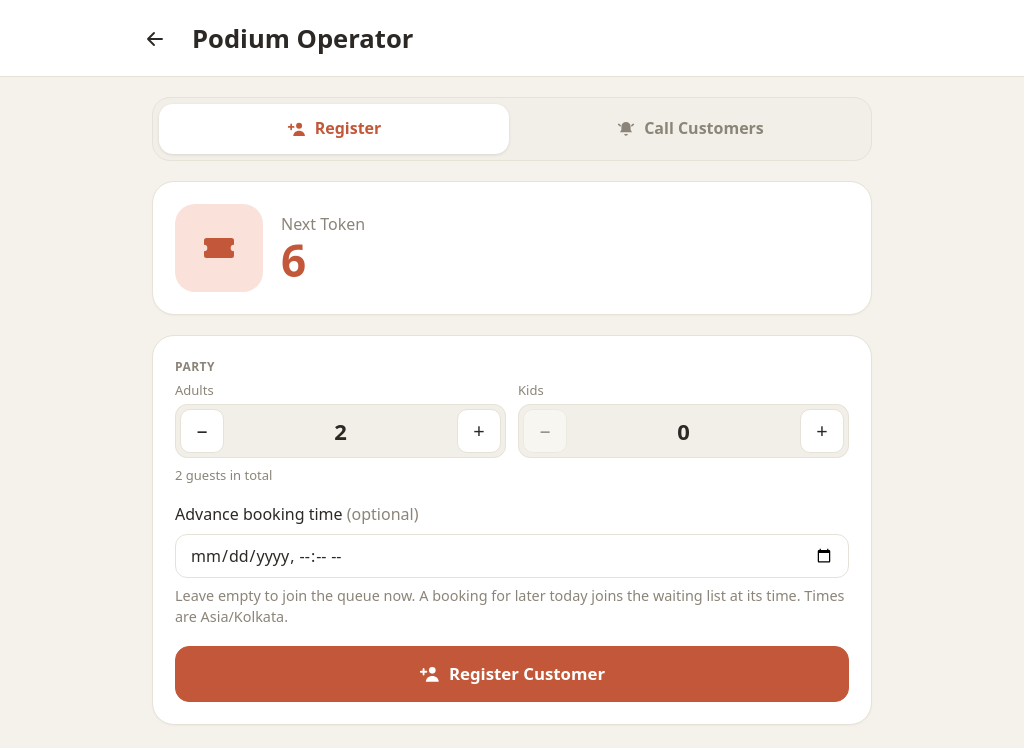
Test: Podium operator — calling › still refetches when an action FAILS, so the operator sees the real state
What coordinates should you click on to do the following:
click the tab "Call Customers"
I would click on:
 (690, 129)
Its box is [515,104,865,154].
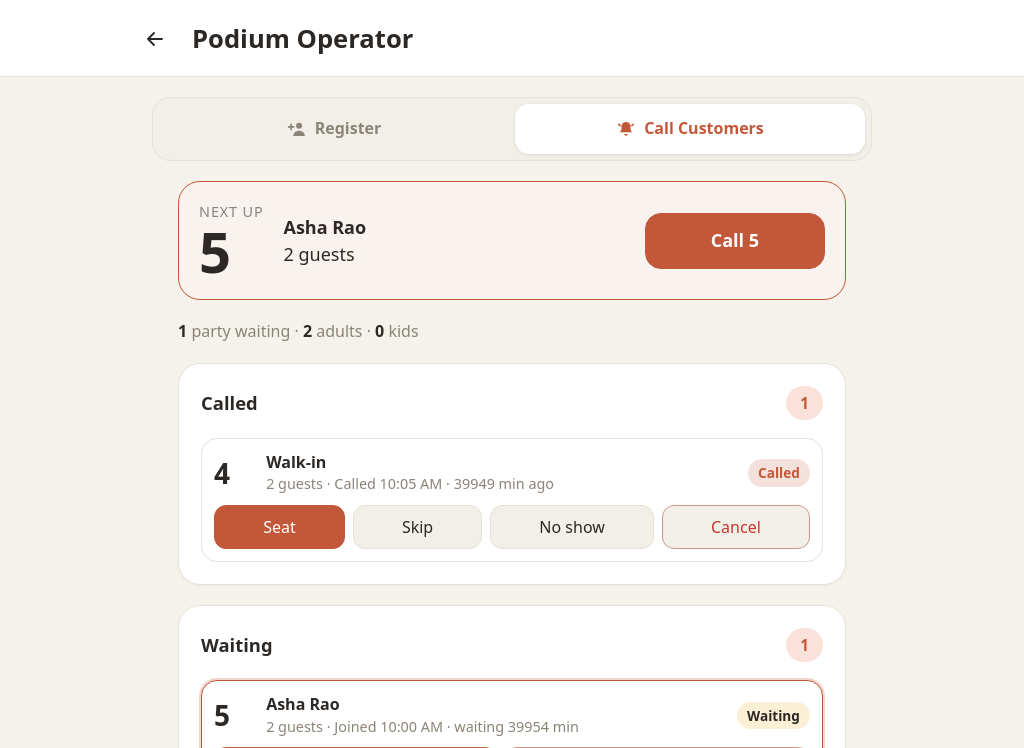
What coordinates should you click on to do the following:
click the button "Call 5"
I would click on:
 (735, 240)
Its box is [645,212,825,268].
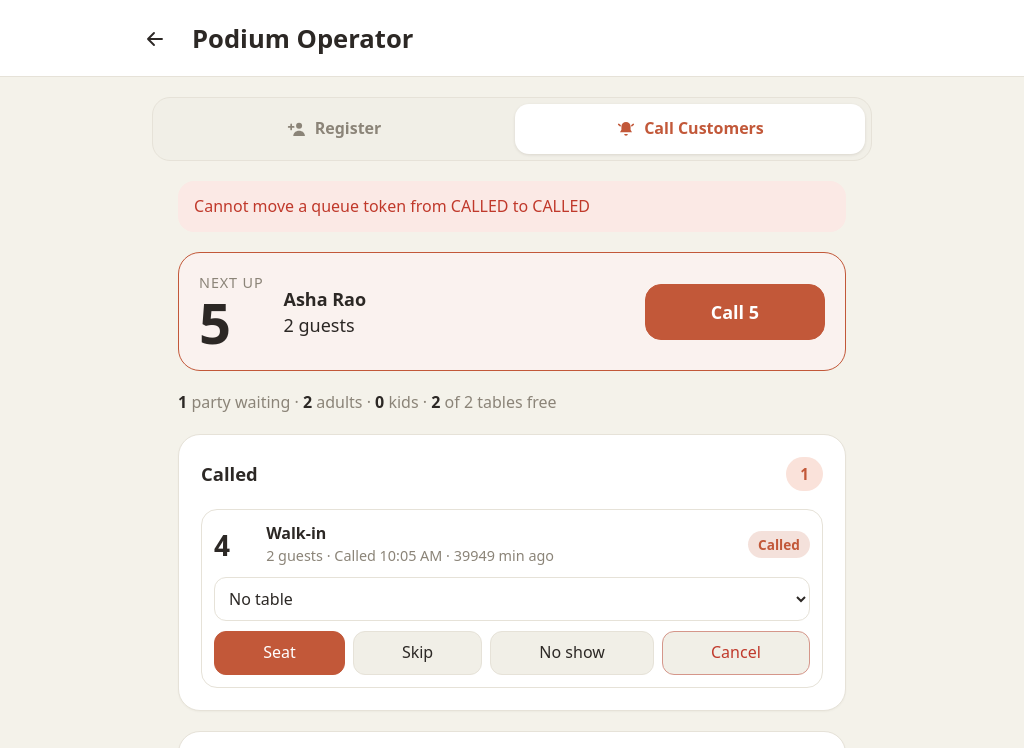
Expected: the message shows "Cannot move a queue token", [194,195,590,217]
